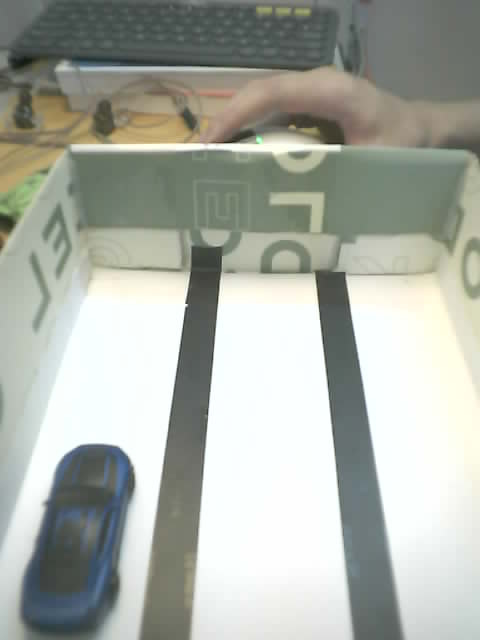vehicle: (19, 443, 136, 630)
